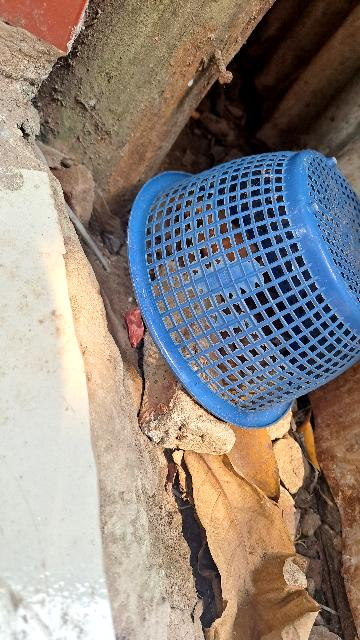hardplastic: (104, 136, 360, 429)
